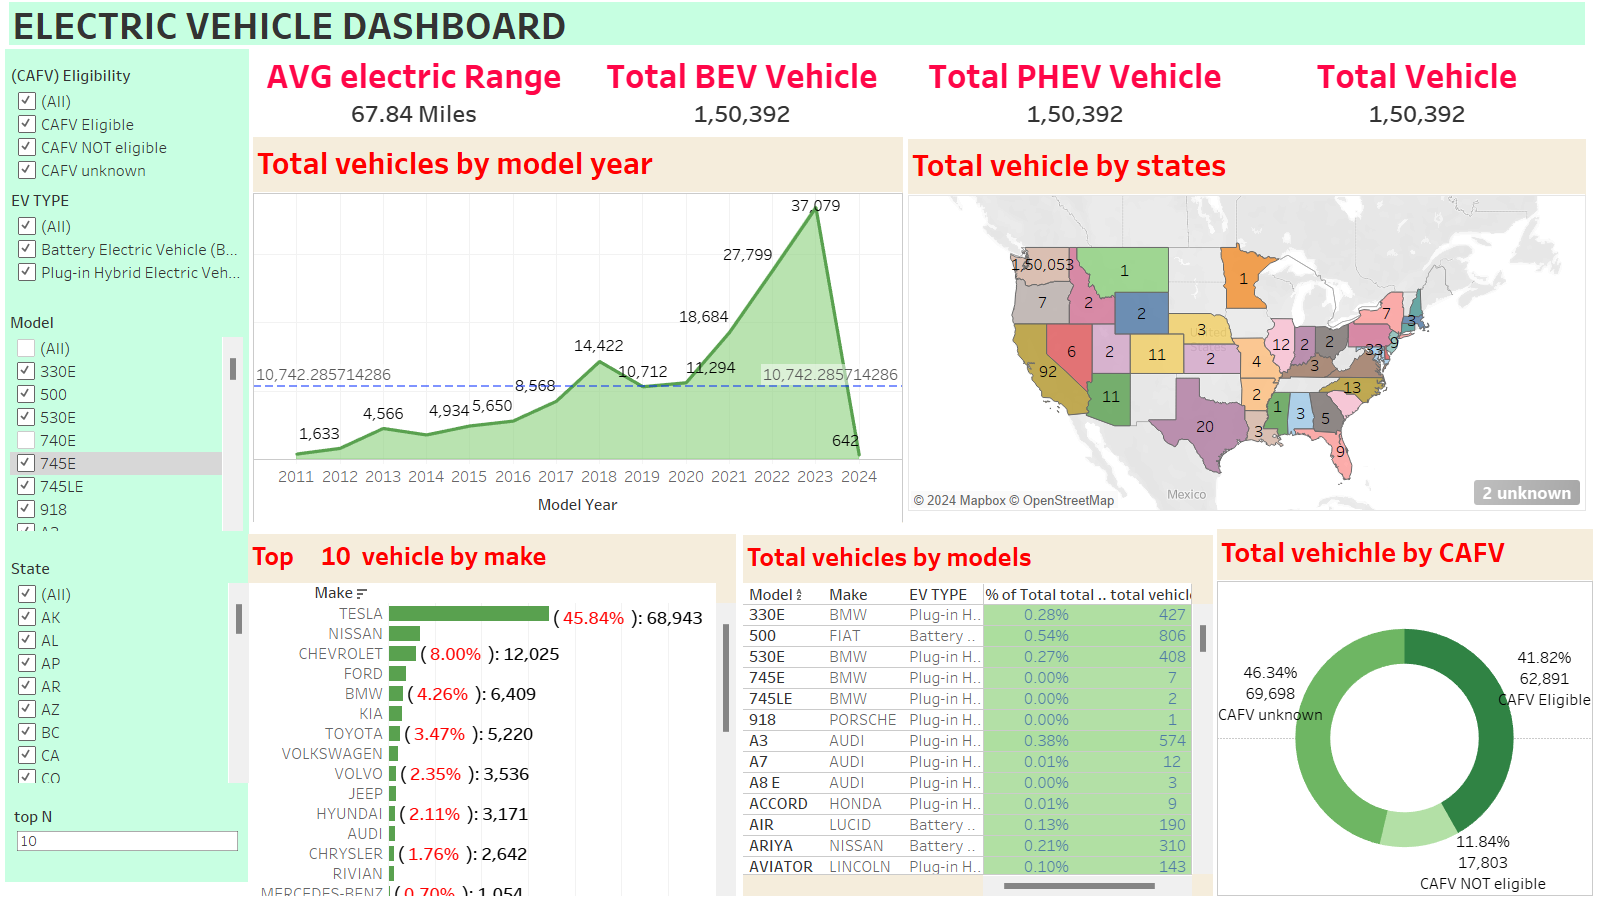

The page's visual inventory and layout, read from the dashboard file:
{"tool":"tableau","page":{"name":"Dashboard 1","canvas":[1600,900],"ordinal":0},"visuals":[{"type":"title","box":[8,8,1584,51]},{"type":"worksheet","title":"AVG Electric range","mark":"Automatic","box":[252,59,329.1,84.2]},{"type":"worksheet","title":"Total BEV Vehicle","mark":"Automatic","box":[581.1,59,328.2,84.2]},{"type":"worksheet","title":"Total PHEV Vehicle ","mark":"Automatic","box":[909.3,59,338.4,84.2]},{"type":"worksheet","title":"Total vehicle","mark":"Automatic","box":[1247.7,59,344.3,84.2]},{"type":"filter","title":"Top 10 vehicle by make","param":"[federated.173q1ew0pjd2yf1fub45w0jy3afi].[none:Clean Alternative Fuel Vehicle (C","box":[14,75,235,120]},{"type":"worksheet","title":"Total vehicle by states","mark":"Multipolygon","box":[905,143,690,384]},{"type":"worksheet","title":"Total vehicles by model year","mark":"Area","rows":["Calculation_429812340327129093","Calculation_429812340327129093"],"cols":["Model Year"],"box":[252,143.2,657.5,394]},{"type":"blank","box":[909.5,143.2,682.5,394]},{"type":"filter","title":"Top 10 vehicle by make","param":"[federated.173q1ew0pjd2yf1fub45w0jy3afi].[none:Electric Vehicle Type:nk]","box":[14,200,236,97]},{"type":"filter","title":"Top 10 vehicle by make","param":"[federated.173q1ew0pjd2yf1fub45w0jy3afi].[none:Model:nk]","box":[13,322,233,219]},{"type":"blank","box":[252,537.2,1340,354.8]},{"type":"filter","title":"Top 10 vehicle by make","param":"[federated.173q1ew0pjd2yf1fub45w0jy3afi].[none:State:nk]","box":[14,568,238,225]},{"type":"parameter","param":"[Parameters].[Parameter 1]","box":[17,816,227,70]}]}

Visuals, with their boxes in screenshot pixels (x1, y1, x2, y2), scaled from the page's 1600x900 canvas onto the 1597x897 screenshot:
title: box=[8, 8, 1589, 59]
"AVG Electric range" worksheet: box=[252, 59, 580, 143]
"Total BEV Vehicle" worksheet: box=[580, 59, 908, 143]
"Total PHEV Vehicle " worksheet: box=[908, 59, 1245, 143]
"Total vehicle" worksheet: box=[1245, 59, 1589, 143]
"Top 10 vehicle by make" filter: box=[14, 75, 249, 194]
"Total vehicle by states" worksheet (Multipolygon marks): box=[903, 143, 1592, 525]
"Total vehicles by model year" worksheet (Area marks): box=[252, 143, 908, 535]
blank: box=[908, 143, 1589, 535]
"Top 10 vehicle by make" filter: box=[14, 199, 250, 296]
"Top 10 vehicle by make" filter: box=[13, 321, 246, 539]
blank: box=[252, 535, 1589, 889]
"Top 10 vehicle by make" filter: box=[14, 566, 252, 790]
parameter: box=[17, 813, 244, 883]
